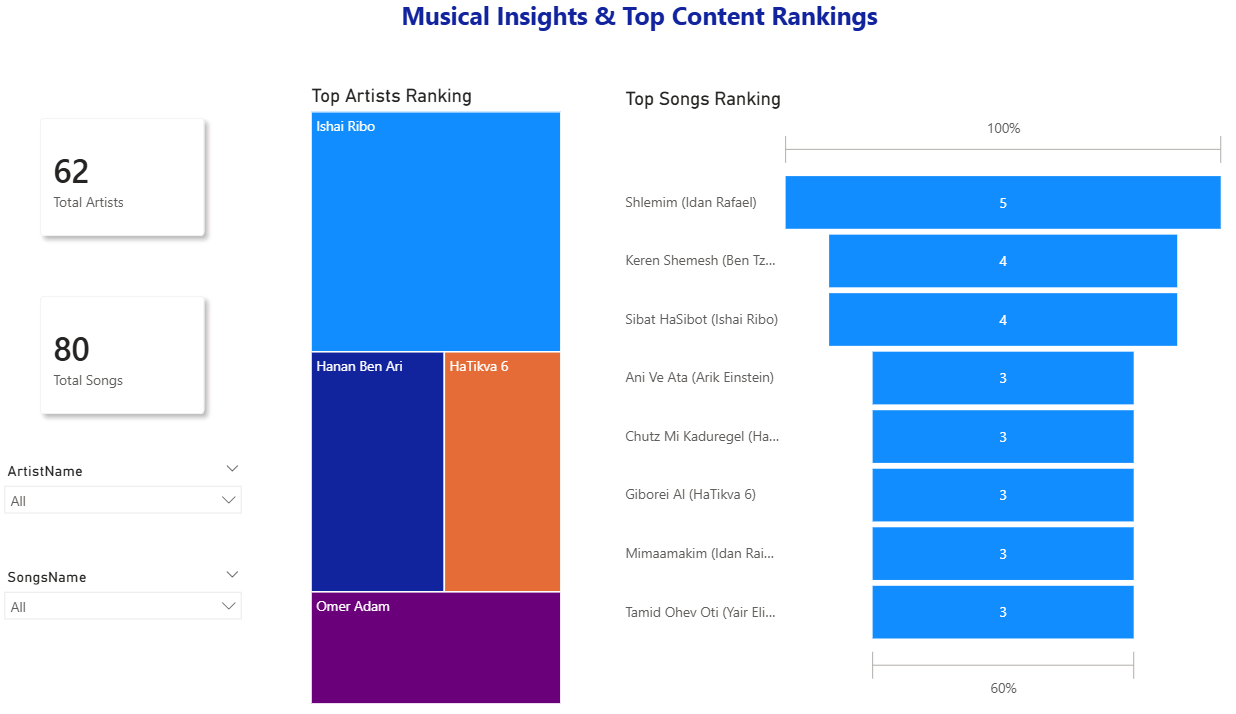

Layout of this report page (visuals, bound fields, positions):
{"tool":"powerbi","page":{"name":"Music Insights","canvas":[1280,720],"ordinal":1},"visuals":[{"type":"cardVisual","fields":{"Data":["!Measures.Total Artists"]},"box":[72,92.4,218.8,173.1],"z":0},{"type":"slicer","fields":{"Values":["Artist.ArtistName"]},"box":[56.4,451.3,250.9,65.2],"z":1000},{"type":"slicer","fields":{"Values":["Songs.SongsName"]},"box":[56.4,554.4,250.9,87.5],"z":2000},{"type":"cardVisual","fields":{"Data":["!Measures.Total Songs"]},"box":[72,265.5,218.8,173.1],"z":3000},{"type":"treemap","title":"Top Artists Ranking","fields":{"Values":["Count(ListHabitsUsers.UsersId)"],"Group":["Artist.ArtistName"]},"box":[359.9,89.5,252.9,606.9],"z":4000},{"type":"funnel","title":"Top Songs Ranking","fields":{"Y":["CountNonNull(UsersFavoriteSongs.UsersFavoriteSongsId)"],"Category":["Songs.SongWithArtist"]},"box":[665.3,92.4,594.3,600.1],"z":5000},{"type":"textbox","box":[447.4,0,487.3,46.7],"z":7000}]}

Visuals, with their boxes in screenshot pixels (x1, y1, x2, y2), scaled from the page's 1280x720 canvas onto the 1236x714 screenshot:
cardVisual - !Measures.Total Artists: 70, 92, 281, 263
slicer - Artist.ArtistName: 54, 448, 297, 512
slicer - Songs.SongsName: 54, 550, 297, 637
cardVisual - !Measures.Total Songs: 70, 263, 281, 435
"Top Artists Ranking" treemap: 348, 89, 592, 691
"Top Songs Ranking" funnel: 642, 92, 1216, 687
textbox: 432, 0, 903, 46
